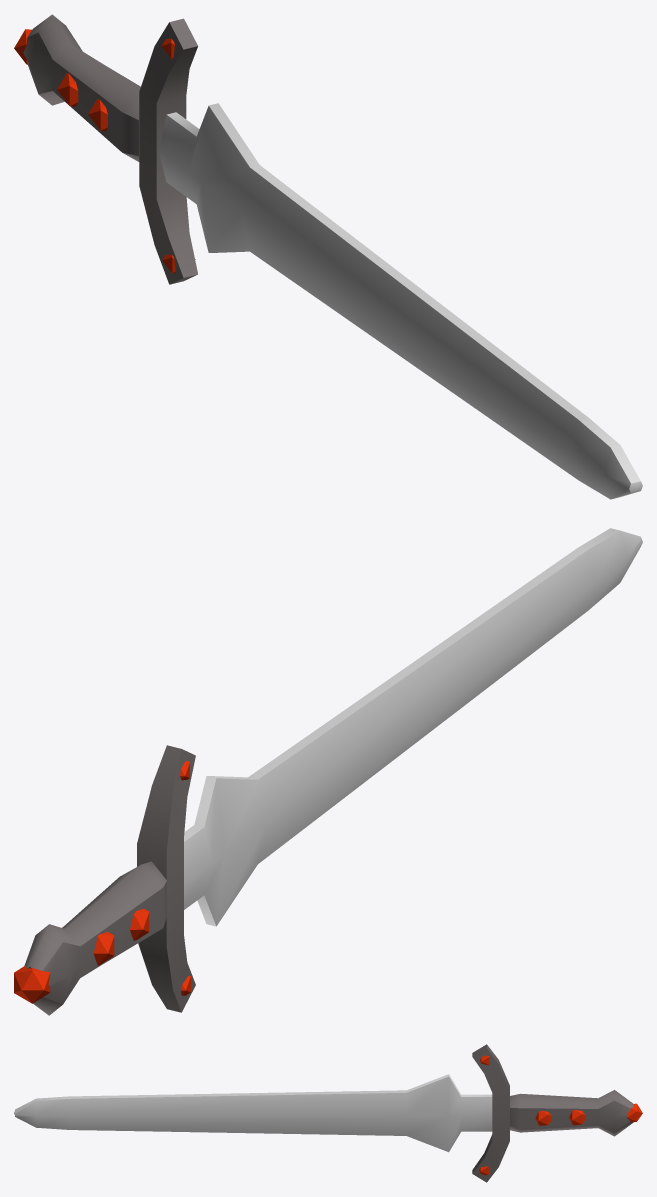
File: magical-sword.fbx
The picture shows the model from 3 angles, top to bottom: view 1: azimuth 30°, elevation 25°; view 2: azimuth 150°, elevation 25°; view 3: azimuth 270°, elevation 25°; orthographic projection. The views are drawn at different scales.
Visible parts, largest first — view 1: blade, guard, handle; view 2: blade, guard, handle, stone1; view 3: blade, handle, guard.
Part boxes in pixels (x1=…): blade: x1=158, y1=103, x2=642, y2=499; guard: x1=139, y1=18, x2=197, y2=284; handle: x1=23, y1=14, x2=140, y2=161; blade: x1=184, y1=528, x2=642, y2=926; guard: x1=137, y1=745, x2=195, y2=1012; handle: x1=24, y1=861, x2=166, y2=1015; stone1: x1=14, y1=966, x2=50, y2=1003; blade: x1=14, y1=1074, x2=492, y2=1152; handle: x1=510, y1=1090, x2=633, y2=1136; guard: x1=472, y1=1044, x2=509, y2=1182.
Size of the model in its own units: 0.1804 by 0.7795 by 3.3.
